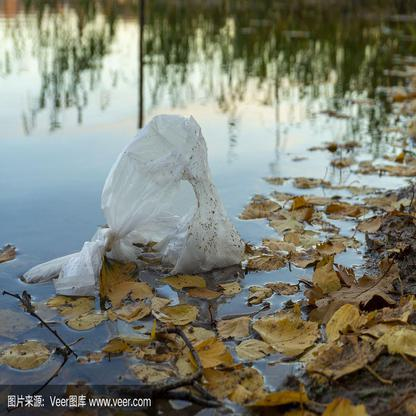plastic bag: (22, 112, 240, 293)
